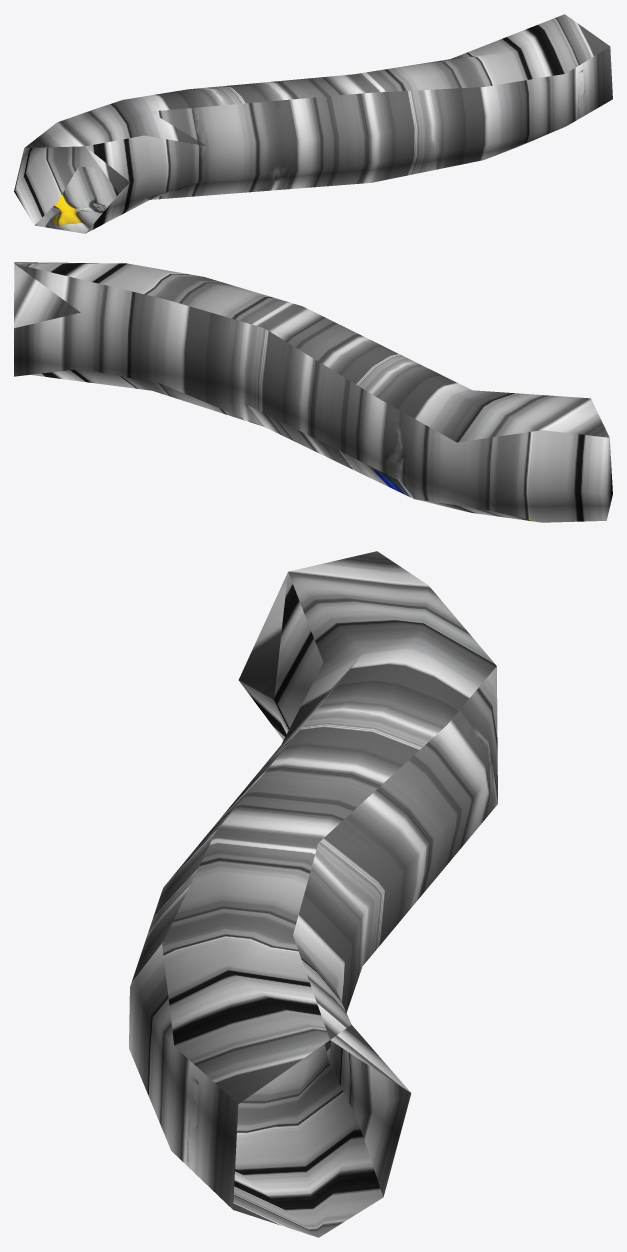
The model's file is squib_mechanical_01.glb.
The picture shows the model from 3 angles, top to bottom: view 1: azimuth 30°, elevation 25°; view 2: azimuth 150°, elevation 25°; view 3: azimuth 270°, elevation 25°; orthographic projection. The views are drawn at different scales.
Parts seen in each view (by area): view 1: BezierCurve; view 2: BezierCurve; view 3: BezierCurve.
Boxes of the visible parts, left/top/right/bottom form: BezierCurve: left=14, top=14, right=612, bottom=233; BezierCurve: left=14, top=262, right=612, bottom=522; BezierCurve: left=129, top=551, right=497, bottom=1237.
Size of the model in its own units: 2.21 by 0.3682 by 0.6317.
1 material, 1 textured.
